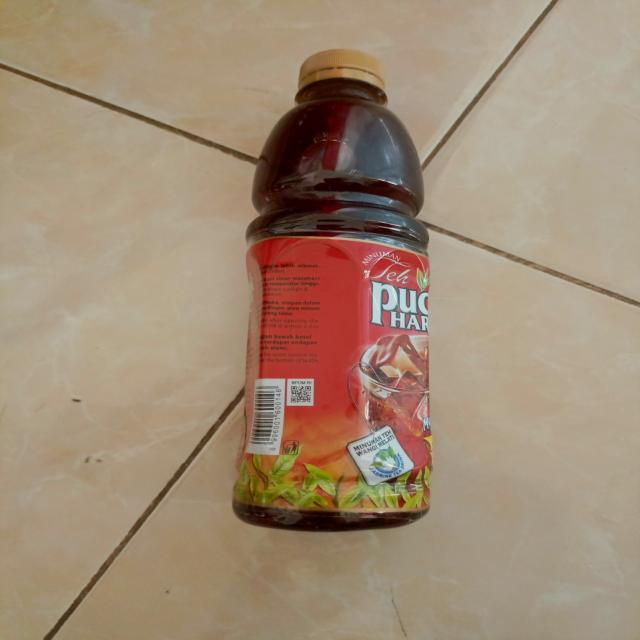teh-pucuk: (237, 47, 435, 535)
